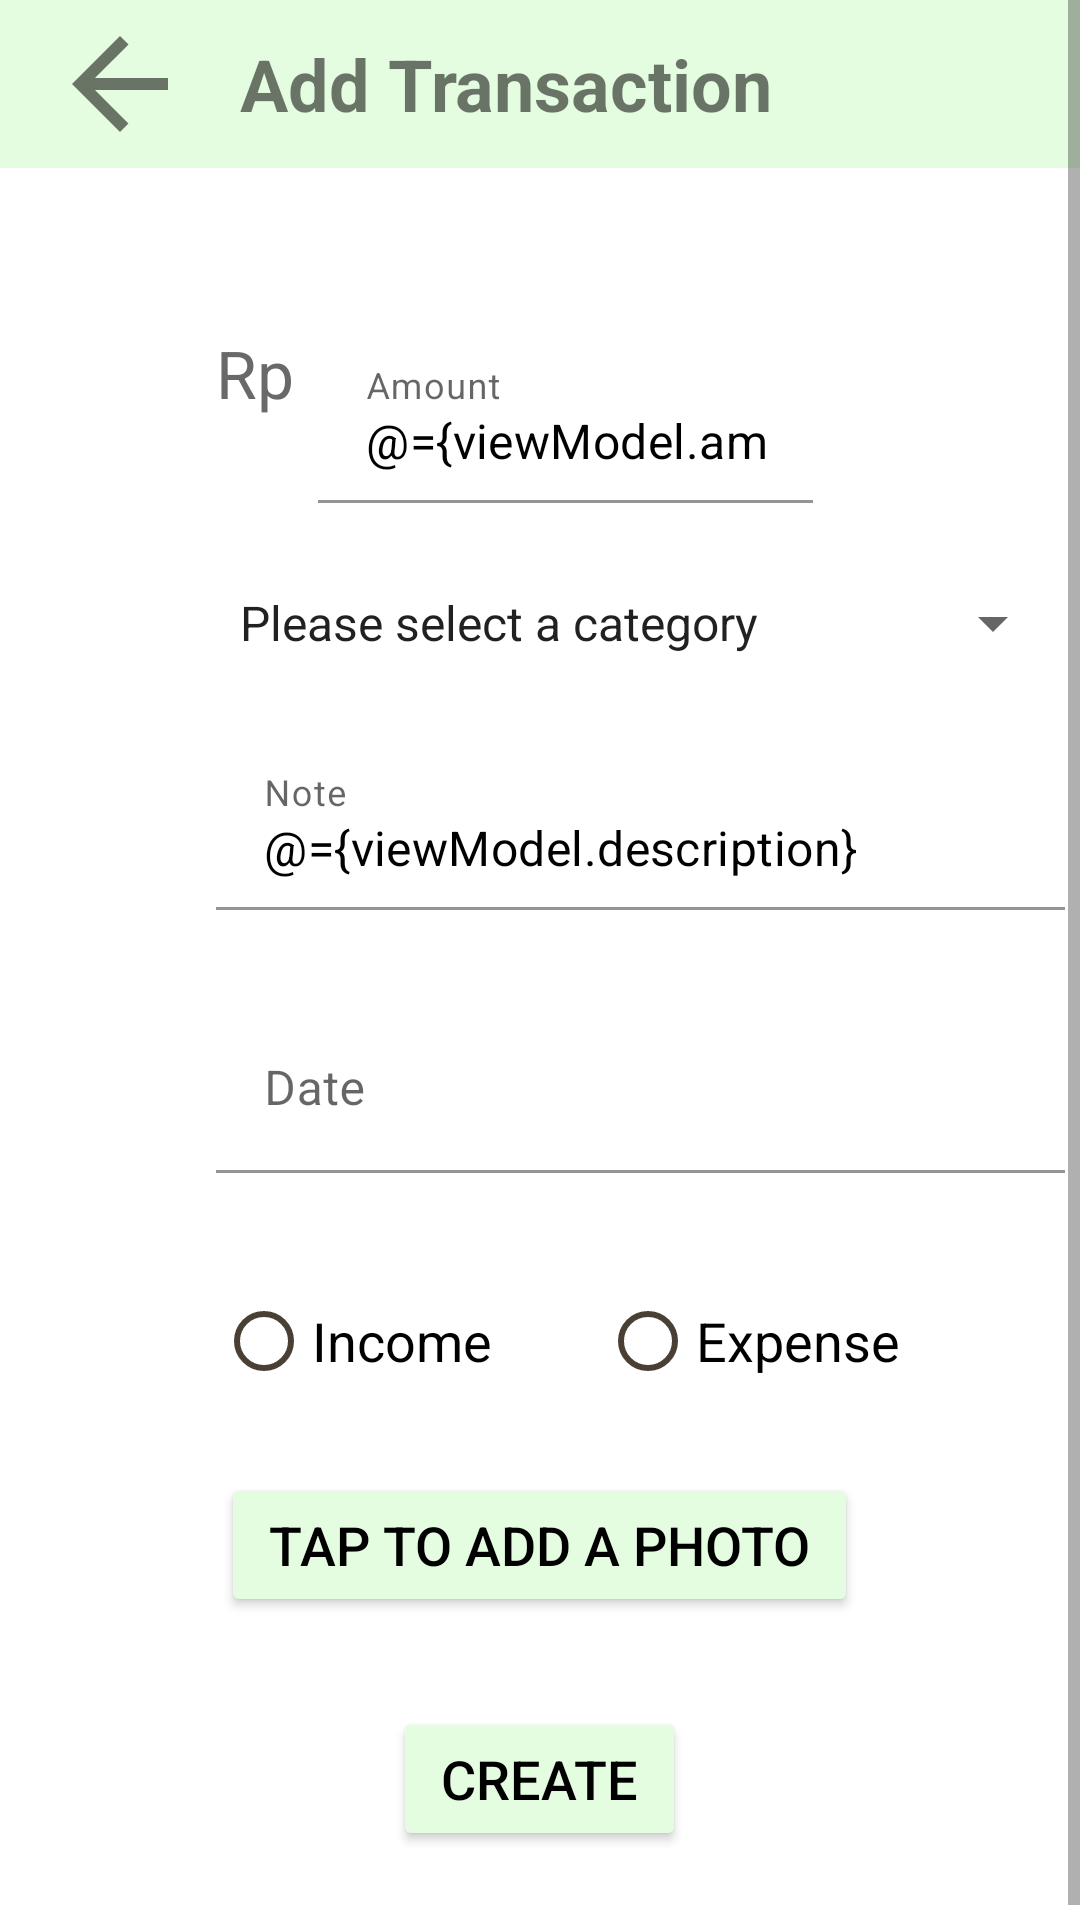

Where icons sit on this 1080x1920 app screen, as [x1, y1, x2, y2]:
arrow back: [72, 36, 168, 132]
